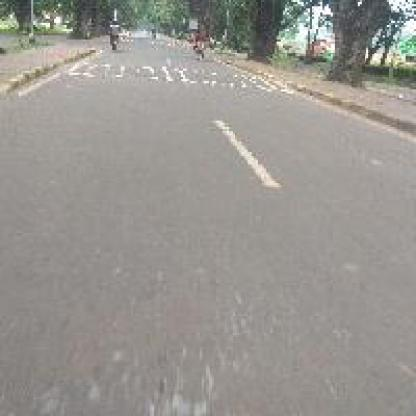Speed Bump: (73, 58, 266, 87)
